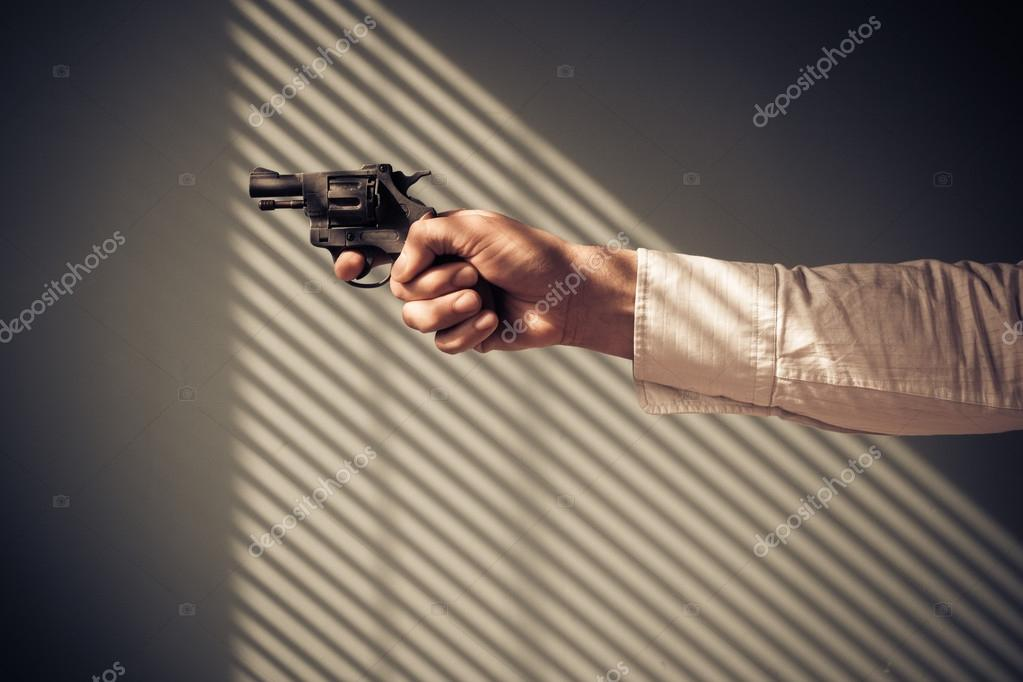Revolver: (207, 154, 527, 356)
